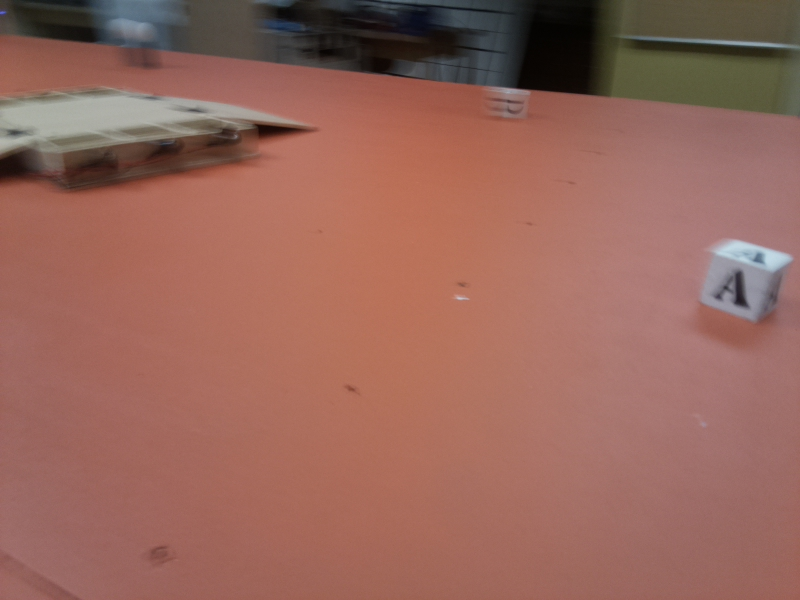blockA: (698, 240, 790, 323)
blockD: (482, 85, 531, 123)
corner: (1, 1, 21, 37)
obstacle: (108, 22, 164, 71)
side: (35, 116, 260, 196)
slope: (163, 91, 318, 135), (1, 126, 36, 169)
